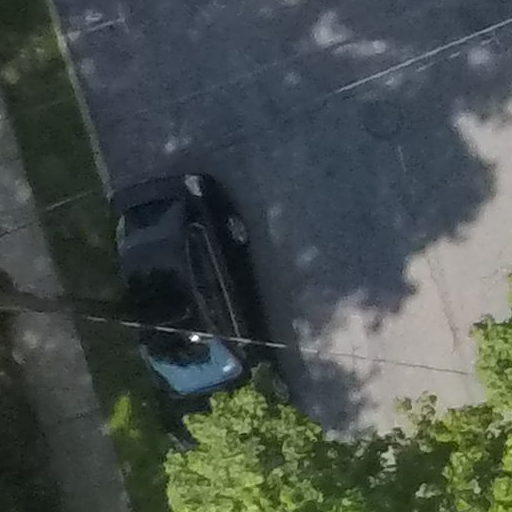car: (98, 141, 272, 398)
